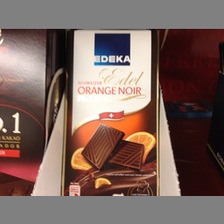chocolate: (65, 30, 160, 196)
